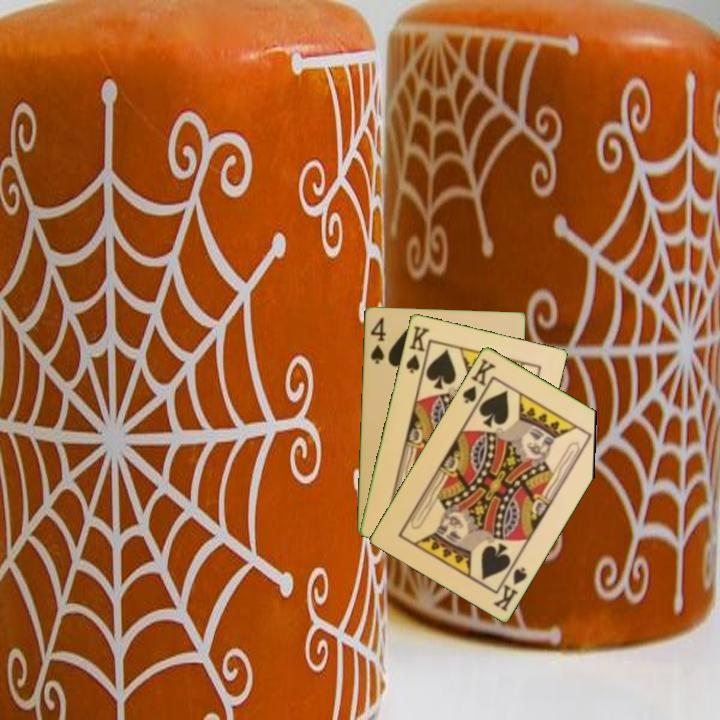4s: (367, 313, 389, 367)
Ks: (489, 557, 530, 614), (459, 354, 498, 410), (402, 322, 432, 376)
